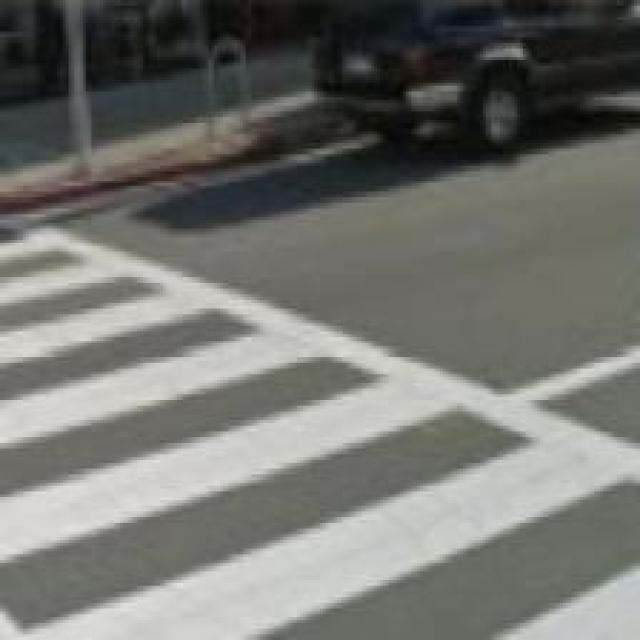walk-crossing: (0, 199, 634, 634)
